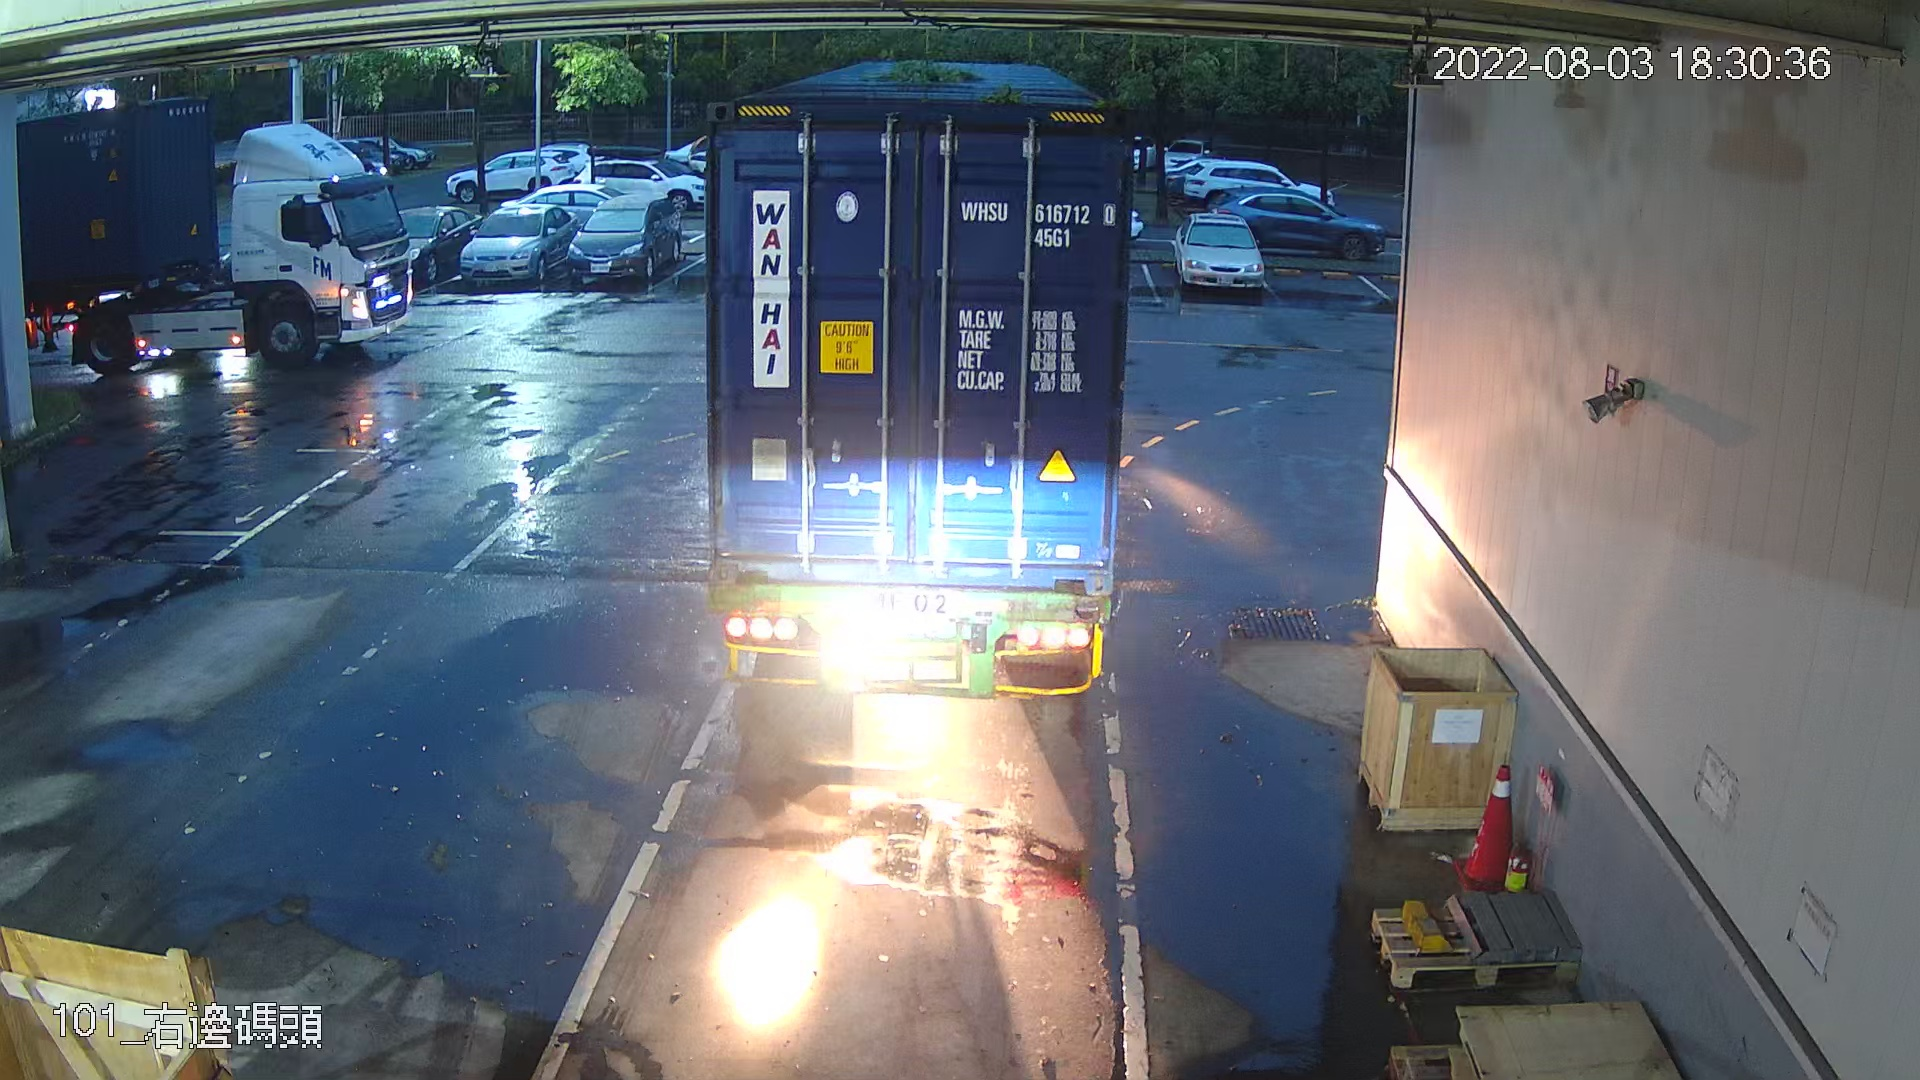container: (953, 193, 1122, 258)
